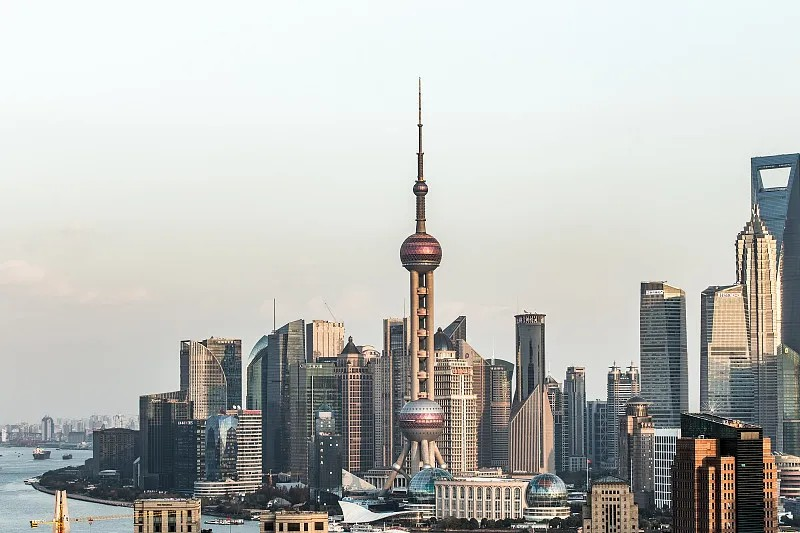Oriental: (383, 77, 446, 494)
